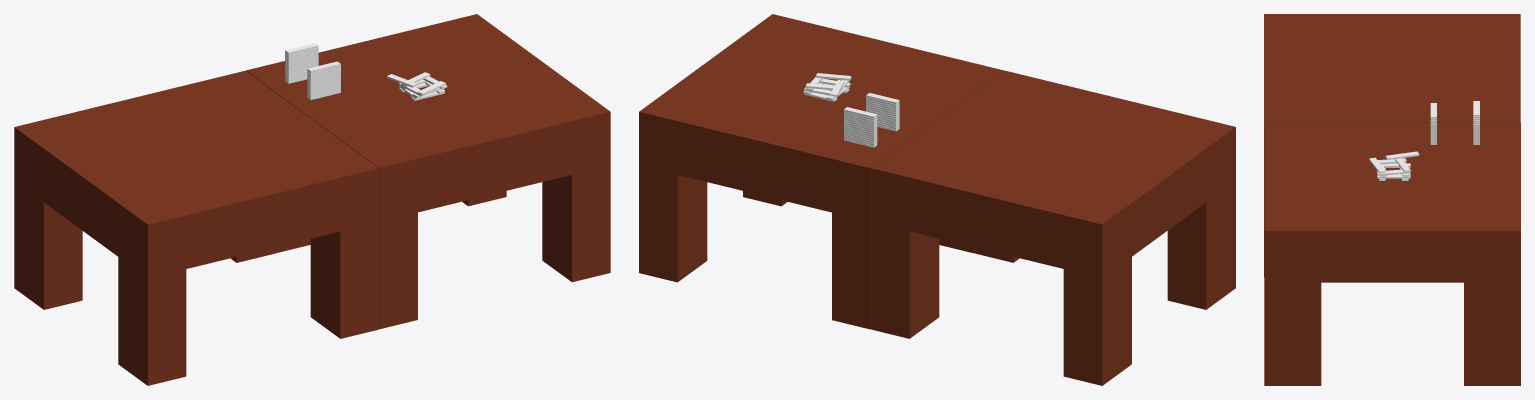
File: keva_spiral_10.dae
3 views of the same model, side by side, from view 1: azimuth 30°, elevation 25°; view 2: azimuth 150°, elevation 25°; view 3: azimuth 270°, elevation 25° (orthographic). The views are drawn at different scales.
Parts seen in each view (by area): view 1: base (×7); view 2: base (×7); view 3: base (×4).
Part boxes in pixels (left/top/right/bottom): base (×7): left=14, top=14, right=610, bottom=385; base (×7): left=639, top=14, right=1235, bottom=385; base (×4): left=1264, top=14, right=1520, bottom=385.
Size of the model in its own units: 1.8 by 0.9009 by 0.7166.
